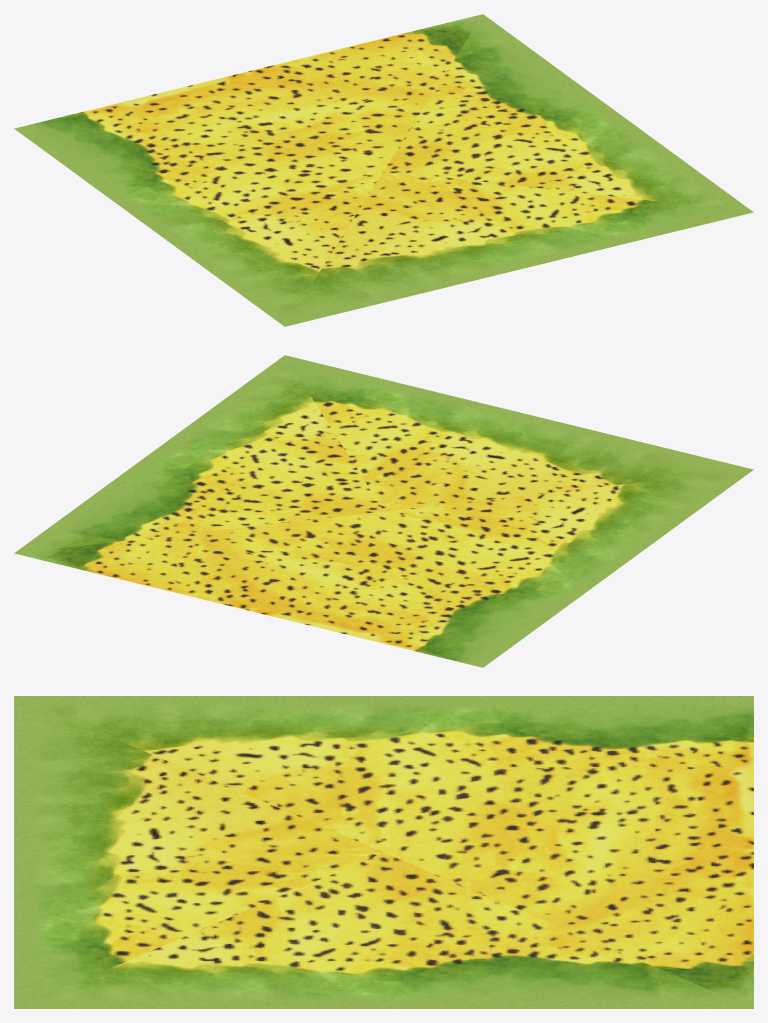
Rendered from tile_path_end.glb.
3 views of the same model, one above another, from view 1: azimuth 30°, elevation 25°; view 2: azimuth 150°, elevation 25°; view 3: azimuth 270°, elevation 25° (orthographic). The views are drawn at different scales.
Parts seen in each view (by area): view 1: TilePathEnd; view 2: TilePathEnd; view 3: TilePathEnd.
Part boxes in pixels (left/top/right/bottom): TilePathEnd: left=14, top=14, right=753, bottom=326; TilePathEnd: left=14, top=355, right=753, bottom=667; TilePathEnd: left=14, top=696, right=753, bottom=1008.
Bounding box in the file's own units: 2 × 0 × 2.
Materials: 1 (1 with a texture image).
